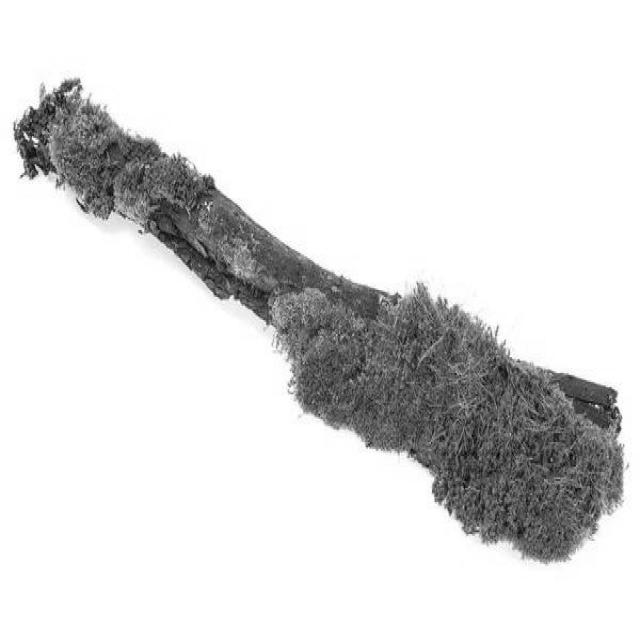Tree: (15, 79, 625, 562)
